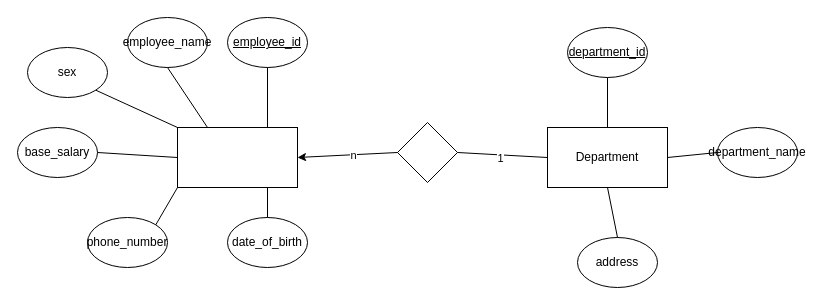
Image size: 823x305. Some labels were removed from this diagram. The box of each missing label's shape, as (x1, y1, x2, y2) in pixels:
có: (396, 122, 458, 182)
Employee: (176, 126, 298, 188)
